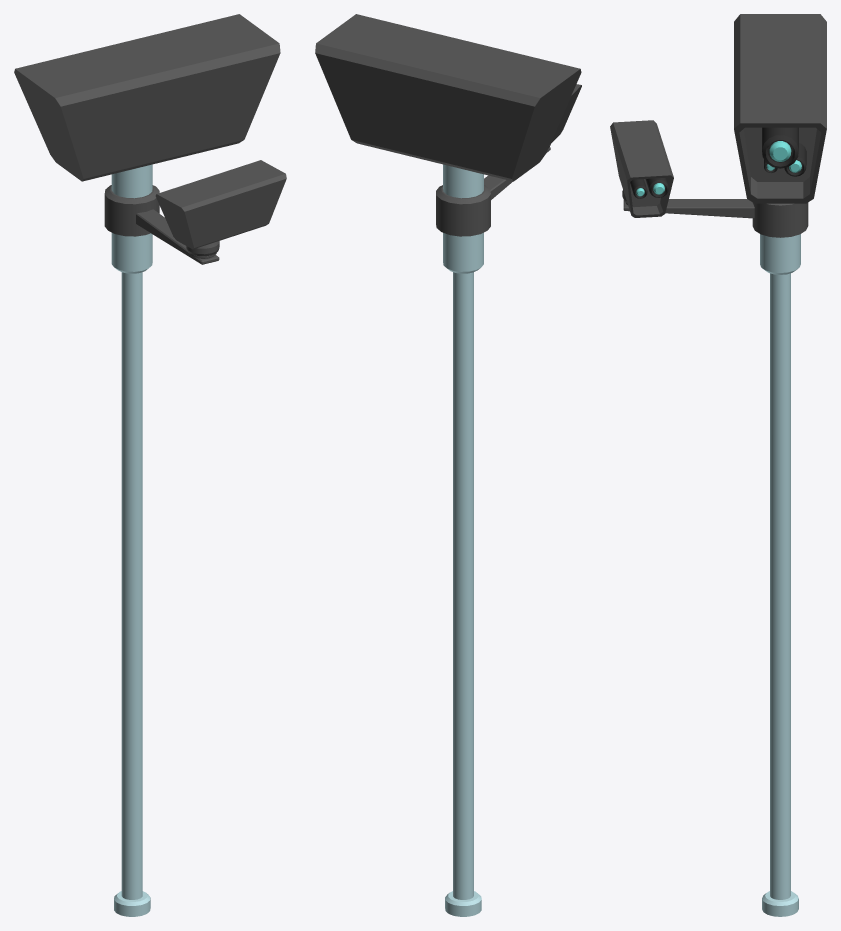
The model's file is Camera_Pole.fbx.
3 renders of one model, left to right at view 1: azimuth 30°, elevation 25°; view 2: azimuth 150°, elevation 25°; view 3: azimuth 270°, elevation 25°, orthographic.
Visible parts, largest first — view 1: Camera_Pole; view 2: Camera_Pole; view 3: Camera_Pole.
Boxes of the visible parts, bbox=[...] form: Camera_Pole: bbox=[14, 14, 286, 916]; Camera_Pole: bbox=[315, 14, 581, 916]; Camera_Pole: bbox=[610, 14, 826, 916].
Bounding box in the file's own units: 1.03 × 3.74 × 0.8677.
